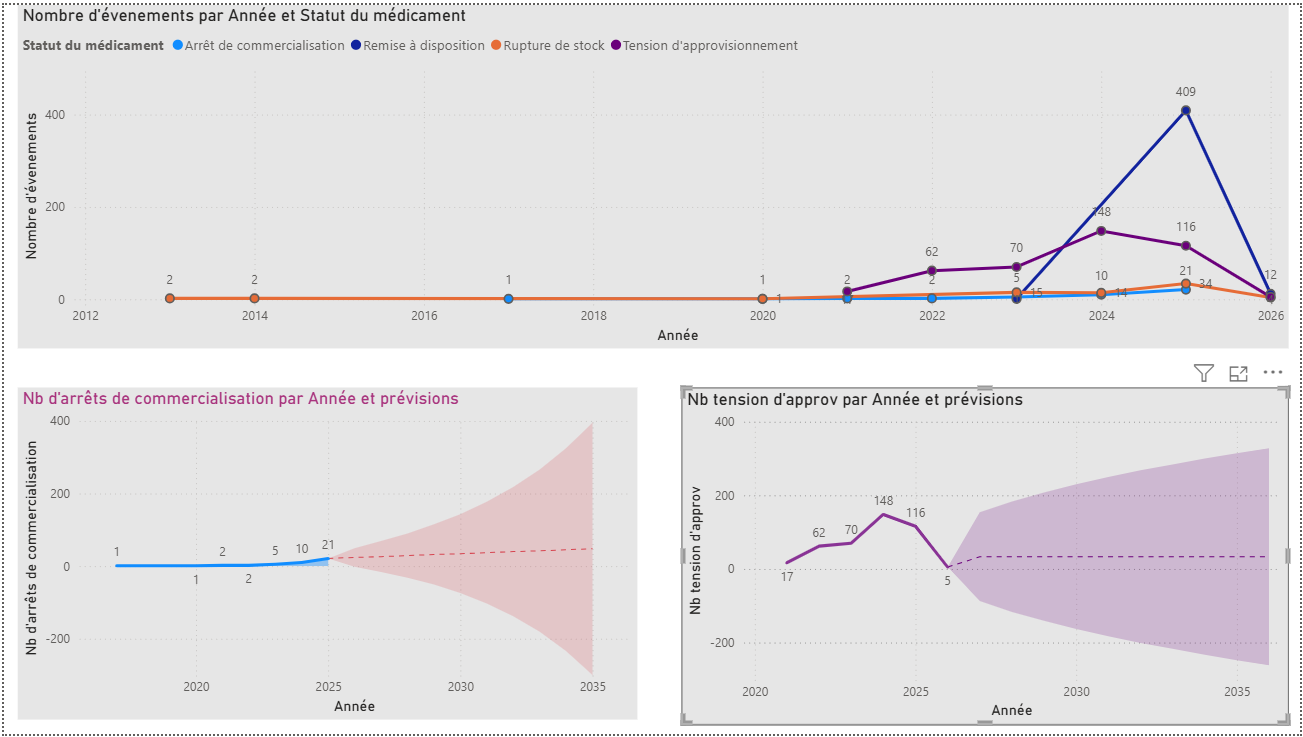

Layout of this report page (visuals, bound fields, positions):
{"tool":"powerbi","page":{"name":"Courbe d'évolution des événements","canvas":[1280,720],"ordinal":1},"visuals":[{"type":"lineChart","title":"Nb tension d''approv par Année et prévisions","fields":{"Category":["DIM_Date.Année"],"Y":["FACT_Dispo_Spec.Nb tension d'approv"]},"box":[669.6,377.4,599.7,333.4],"z":0},{"type":"lineChart","title":"Nb d''arrêts de commercialisation par Année et prévisions","fields":{"Category":["DIM_Date.Année"],"Y":["FACT_Dispo_Spec.Nb arrêt com"]},"box":[13.7,377.4,612,328],"z":1000},{"type":"lineChart","fields":{"Category":["DIM_Date.Année"],"Y":["FACT_Dispo_Spec.Nombre d'évenements"],"Series":["FACT_Dispo_Spec.Statut du médicament"]},"box":[13.7,0,1255.6,338.9],"z":2000}]}

Visuals, with their boxes in screenshot pixels (x1, y1, x2, y2), scaled from the page's 1280x720 canvas onto the 1303x737 screenshot:
"Nb tension d''approv par Année et prévisions" lineChart: select_region(682, 386, 1292, 728)
"Nb d''arrêts de commercialisation par Année et prévisions" lineChart: select_region(14, 386, 637, 722)
lineChart - DIM_Date.Année x FACT_Dispo_Spec.Nombre d'évenements: select_region(14, 0, 1292, 347)
